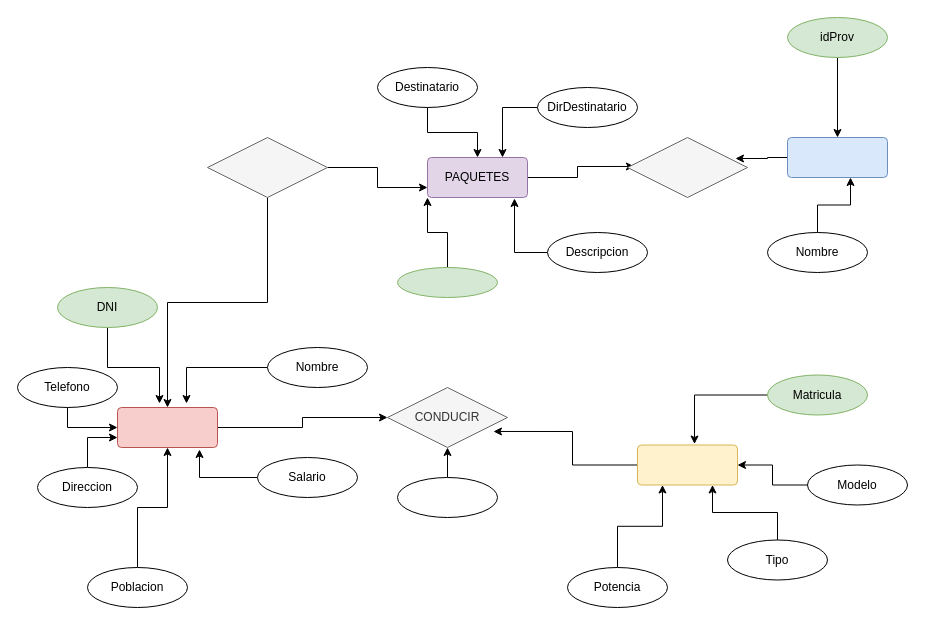
This 925x625 diagram has some shape labels left out. Here are the shapes that lost their labels. From the top down, the centre of each, then its label:
(267,167): ENTREGAN
(687,167): LLEGAN
(837,157): PROVINCIAS
(447,282): SKU
(167,427): CAMIONEROS
(687,464): CAMIONES
(447,497): Fecha
